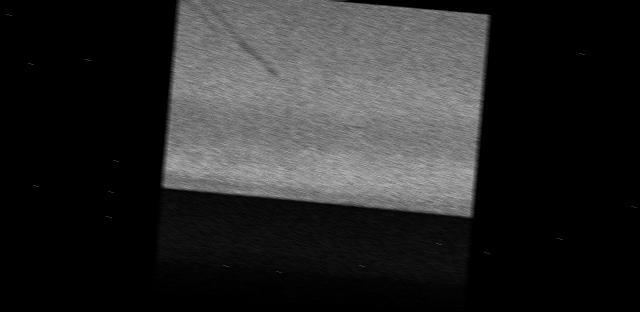water_spot: (170, 0, 306, 94)
